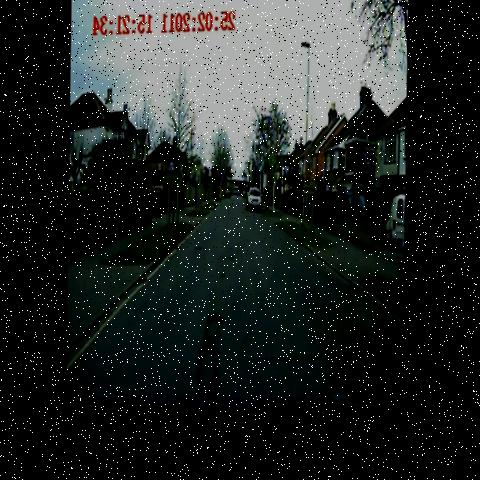pothole: (192, 299, 230, 410), (192, 237, 206, 270), (216, 271, 231, 288)
